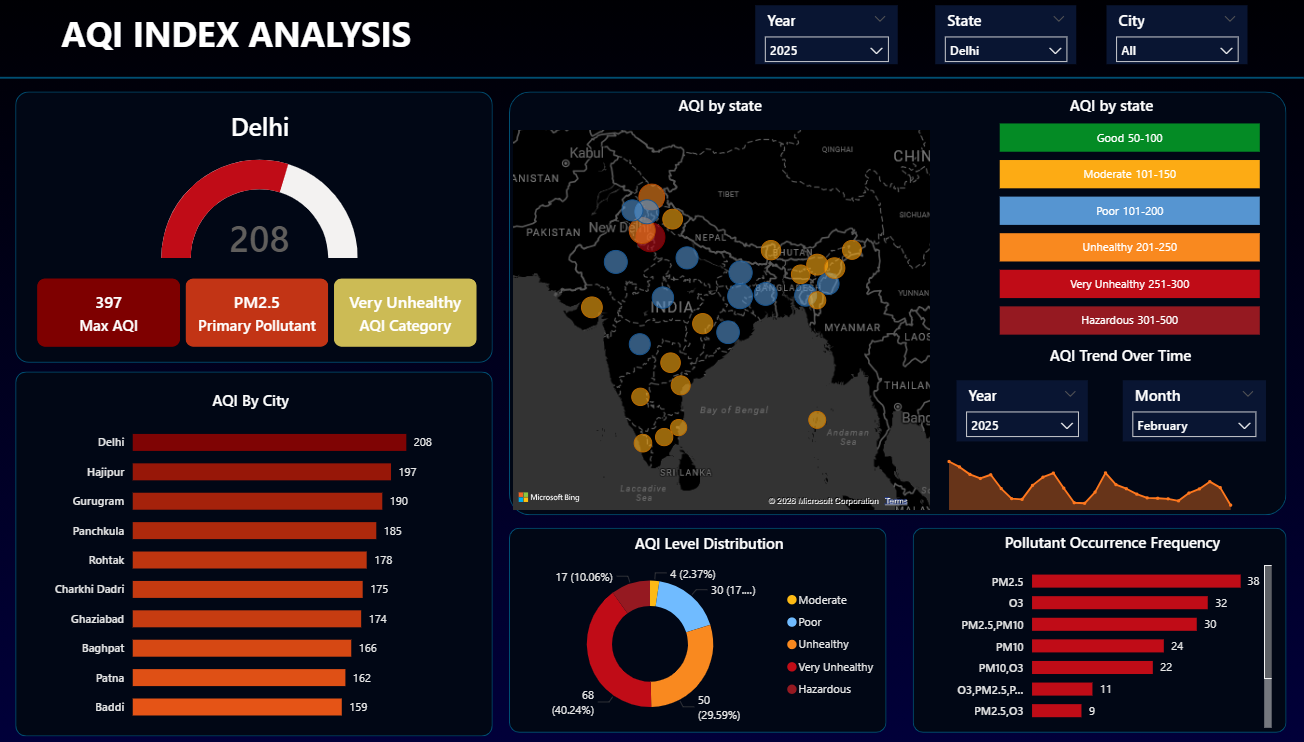

What the dashboard file says about the page in this screenshot:
{"tool":"powerbi","page":{"name":"AQI INDEX ANALYSIS","canvas":[1400,800],"ordinal":0},"visuals":[{"type":"textbox","box":[61.7,6.7,423.6,63],"z":0},{"type":"shape","box":[17.4,99.2,512.1,290.9],"z":1000},{"type":"gauge","fields":{"Y":["day_wise_aqi_data.Average_AQI"]},"box":[128.7,167.6,301.6,115.3],"z":2000},{"type":"slicer","fields":{"Values":["Calender_Table.Year"]},"box":[811,6.7,152.8,63],"z":3000},{"type":"slicer","fields":{"Values":["day_wise_aqi_data.area"]},"box":[1187.7,6.7,151.5,63],"z":4000},{"type":"slicer","fields":{"Values":["day_wise_aqi_data.state"]},"box":[1004,6.7,151.5,63],"z":5000},{"type":"cardVisual","fields":{"Data":["Max(day_wise_aqi_data.aqi_value)","day_wise_aqi_data.Primary_Polluntant","day_wise_aqi_data.AQI_Category_KPI"]},"box":[24.1,282.8,505.4,107.2],"z":6000},{"type":"cardVisual","fields":{"Data":["day_wise_aqi_data.KPI Title"]},"box":[68.4,99.2,423.6,71],"z":7000},{"type":"shape","box":[546.9,99.2,833.8,454.4],"z":8000},{"type":"map","fields":{"Category":["day_wise_aqi_data.state"],"Size":["day_wise_aqi_data.Average_AQI"]},"box":[546.9,135.4,457.1,418.2],"z":9000},{"type":"cardVisual","fields":{"Data":["day_wise_aqi_data.State Map Title"]},"box":[700,84.4,152.5,56.2],"z":10000},{"type":"barChart","fields":{"Category":["day_wise_aqi_data.AQI Category"],"Y":["day_wise_aqi_data.Label"]},"box":[1068.9,121.1,288.9,245.6],"z":11000},{"type":"areaChart","fields":{"Category":["Calender_Table.Date.Variation.Date Hierarchy.Day"],"Y":["day_wise_aqi_data.Average_AQI"]},"box":[1004.4,473.3,365.6,80],"z":12000},{"type":"slicer","fields":{"Values":["Calender_Table.Date.Variation.Date Hierarchy.Year"]},"box":[1026.7,408.9,141.1,65.6],"z":13000},{"type":"slicer","fields":{"Values":["Calender_Table.Date.Variation.Date Hierarchy.Month"]},"box":[1204.4,408.9,153.3,65.6],"z":14000},{"type":"cardVisual","fields":{"Data":["day_wise_aqi_data.Title for monthly chart"]},"box":[1097.8,352.2,251.1,55.6],"z":15000},{"type":"shape","box":[17.4,399.5,512.1,391.4],"z":16000},{"type":"barChart","fields":{"Category":["day_wise_aqi_data.area"],"Y":["day_wise_aqi_data.Average_AQI"]},"box":[53.6,441,418.2,345.8],"z":17000},{"type":"cardVisual","fields":{"Data":["day_wise_aqi_data.Title for city"]},"box":[199.7,399.5,160.9,59],"z":18000},{"type":"shape","box":[546.9,567,404.8,219.8],"z":19000},{"type":"donutChart","fields":{"Category":["day_wise_aqi_data.AQI Category"],"Y":["day_wise_aqi_data.counts of rows"]},"box":[546.9,596.5,404.8,190.3],"z":20000},{"type":"cardVisual","fields":{"Data":["day_wise_aqi_data.Donut Title"]},"box":[652.8,553.6,277.5,57.6],"z":21000},{"type":"shape","box":[979.9,567,400.8,219.8],"z":22000},{"type":"barChart","fields":{"Category":["day_wise_aqi_data.prominent_pollutants"],"Y":["day_wise_aqi_data.counts of rows"]},"box":[1004,595.2,366,191.7],"z":23000},{"type":"cardVisual","fields":{"Data":["day_wise_aqi_data.Pollutant Title"]},"box":[1049.6,552.3,313.7,57.6],"z":24000},{"type":"shape","box":[0,69.7,1399.5,29.5],"z":25000},{"type":"cardVisual","fields":{"Data":["day_wise_aqi_data.State Map Title"]},"box":[1119.4,84.4,152.5,56.2],"z":26000}]}

Visuals, with their boxes in screenshot pixels (x1, y1, x2, y2), scaled from the page's 1400x800 canvas onto the 1304x742 screenshot:
textbox: pyautogui.locateOnScreen(57, 6, 452, 65)
shape: pyautogui.locateOnScreen(16, 92, 493, 362)
gauge - day_wise_aqi_data.Average_AQI: pyautogui.locateOnScreen(120, 155, 401, 262)
slicer - Calender_Table.Year: pyautogui.locateOnScreen(755, 6, 898, 65)
slicer - day_wise_aqi_data.area: pyautogui.locateOnScreen(1106, 6, 1247, 65)
slicer - day_wise_aqi_data.state: pyautogui.locateOnScreen(935, 6, 1076, 65)
cardVisual - Max(day_wise_aqi_data.aqi_value) x day_wise_aqi_data.Primary_Polluntant: pyautogui.locateOnScreen(22, 262, 493, 362)
cardVisual - day_wise_aqi_data.KPI Title: pyautogui.locateOnScreen(64, 92, 458, 158)
shape: pyautogui.locateOnScreen(509, 92, 1286, 513)
map - day_wise_aqi_data.state x day_wise_aqi_data.Average_AQI: pyautogui.locateOnScreen(509, 126, 935, 513)
cardVisual - day_wise_aqi_data.State Map Title: pyautogui.locateOnScreen(652, 78, 794, 130)
barChart - day_wise_aqi_data.AQI Category x day_wise_aqi_data.Label: pyautogui.locateOnScreen(996, 112, 1265, 340)
areaChart - Calender_Table.Date.Variation.Date Hierarchy.Day x day_wise_aqi_data.Average_AQI: pyautogui.locateOnScreen(936, 439, 1276, 513)
slicer - Calender_Table.Date.Variation.Date Hierarchy.Year: pyautogui.locateOnScreen(956, 379, 1088, 440)
slicer - Calender_Table.Date.Variation.Date Hierarchy.Month: pyautogui.locateOnScreen(1122, 379, 1265, 440)
cardVisual - day_wise_aqi_data.Title for monthly chart: pyautogui.locateOnScreen(1023, 327, 1256, 378)
shape: pyautogui.locateOnScreen(16, 371, 493, 734)
barChart - day_wise_aqi_data.area x day_wise_aqi_data.Average_AQI: pyautogui.locateOnScreen(50, 409, 439, 730)
cardVisual - day_wise_aqi_data.Title for city: pyautogui.locateOnScreen(186, 371, 336, 425)
shape: pyautogui.locateOnScreen(509, 526, 886, 730)
donutChart - day_wise_aqi_data.AQI Category x day_wise_aqi_data.counts of rows: pyautogui.locateOnScreen(509, 553, 886, 730)
cardVisual - day_wise_aqi_data.Donut Title: pyautogui.locateOnScreen(608, 513, 867, 567)
shape: pyautogui.locateOnScreen(913, 526, 1286, 730)
barChart - day_wise_aqi_data.prominent_pollutants x day_wise_aqi_data.counts of rows: pyautogui.locateOnScreen(935, 552, 1276, 730)
cardVisual - day_wise_aqi_data.Pollutant Title: pyautogui.locateOnScreen(978, 512, 1270, 566)
shape: pyautogui.locateOnScreen(0, 65, 1303, 92)
cardVisual - day_wise_aqi_data.State Map Title: pyautogui.locateOnScreen(1043, 78, 1185, 130)
